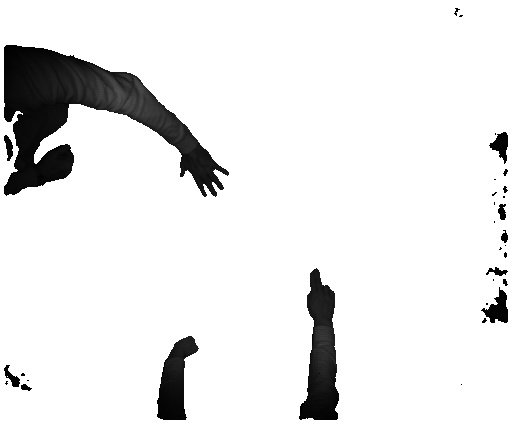fist: (41, 143, 79, 185), (173, 336, 199, 361)
hand: (182, 151, 231, 199), (304, 266, 335, 324)
